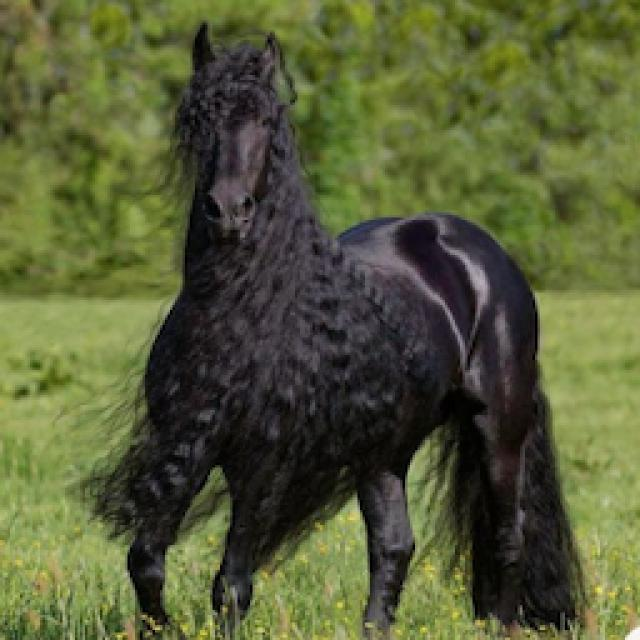Horse: (75, 18, 600, 638)
